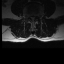CCS_normal: (32, 14, 33, 23)
LFS_severe_stenosis: (35, 14, 37, 19)
LLS_normal: (33, 15, 35, 20)
RFS_severe_stenosis: (28, 14, 30, 19)
RLS_stenosis: (30, 15, 32, 20)
